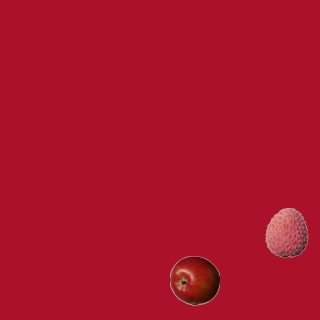Apple Braeburn: (169, 255, 219, 305)
Lychee: (261, 207, 311, 257)
